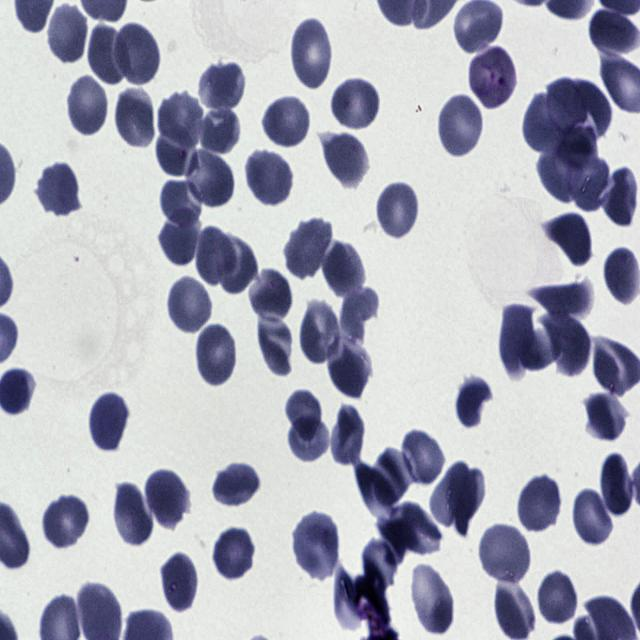red blood cell: (292, 509, 343, 582), (477, 522, 532, 585), (536, 139, 590, 203), (184, 146, 236, 210), (290, 17, 334, 92), (410, 562, 454, 634), (143, 467, 190, 532), (374, 179, 422, 242), (318, 132, 370, 190), (320, 238, 367, 302), (115, 21, 162, 85), (245, 148, 294, 209), (166, 275, 214, 337), (286, 218, 333, 281), (195, 322, 239, 389), (327, 334, 372, 399), (213, 235, 260, 297), (400, 427, 446, 489), (330, 74, 380, 131), (42, 492, 91, 550), (86, 20, 128, 87), (389, 502, 442, 555), (492, 578, 537, 640), (517, 474, 563, 534), (160, 87, 206, 147), (89, 390, 131, 454), (189, 224, 233, 285), (546, 209, 593, 266), (439, 96, 483, 156), (566, 152, 610, 212), (156, 118, 199, 179), (113, 480, 151, 549), (260, 98, 312, 148), (500, 304, 536, 376), (448, 466, 485, 536), (536, 570, 580, 628), (454, 0, 504, 51), (257, 312, 295, 379), (67, 76, 108, 138), (572, 489, 615, 548), (431, 462, 470, 527), (36, 162, 81, 218), (160, 550, 200, 613), (600, 167, 639, 230), (573, 79, 612, 142), (522, 95, 562, 156), (212, 527, 257, 581), (160, 177, 204, 232), (354, 458, 395, 516), (250, 268, 292, 324), (552, 320, 592, 378), (115, 88, 154, 147), (588, 11, 639, 56), (301, 302, 338, 364), (48, 4, 86, 64), (546, 77, 586, 134), (194, 105, 242, 152), (516, 326, 568, 369), (371, 447, 412, 501), (454, 375, 494, 430), (200, 61, 243, 111), (339, 282, 382, 332), (331, 567, 364, 632), (328, 404, 363, 465), (530, 282, 592, 316), (212, 463, 260, 506), (584, 392, 626, 441), (605, 248, 640, 305), (601, 453, 632, 516), (284, 417, 328, 461), (158, 214, 196, 264), (362, 538, 400, 588), (284, 389, 322, 438)
ring: (469, 46, 516, 108)
